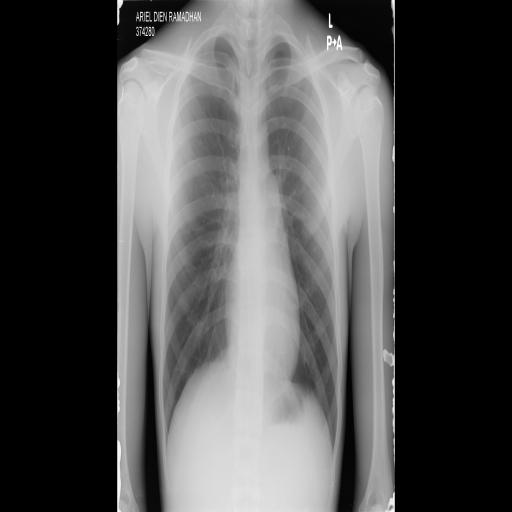normal: (155, 22, 345, 452)
